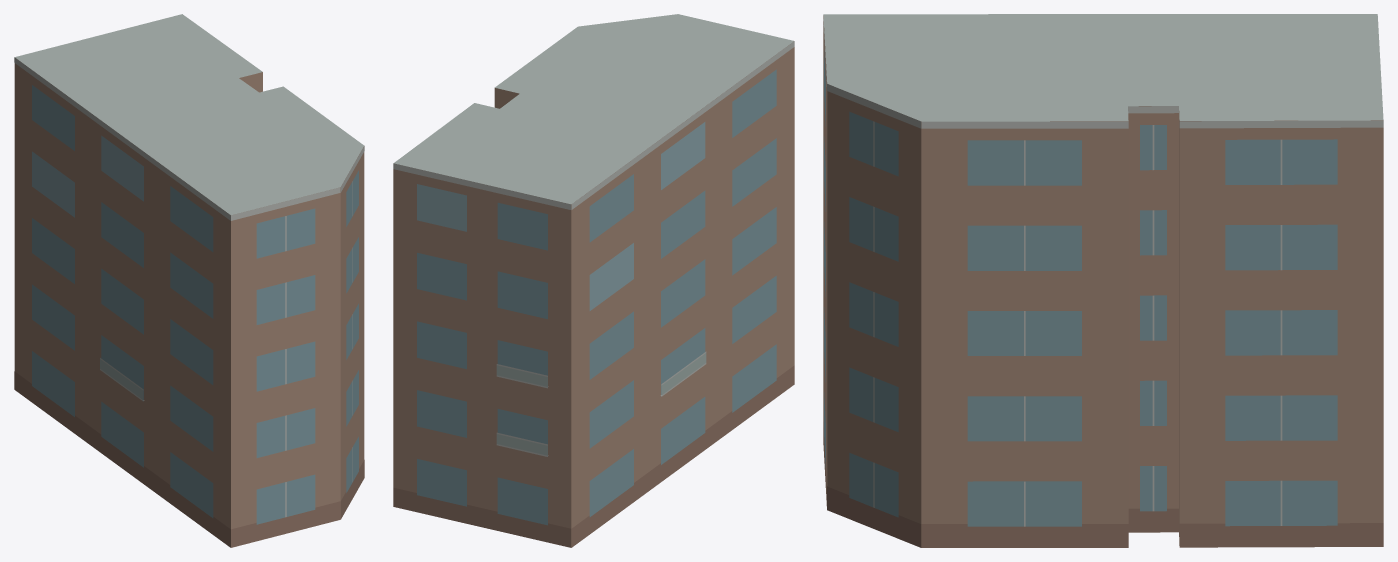
Rendered from survey-upis-32520131.glb.
3 views of the same model, side by side, from view 1: azimuth 30°, elevation 25°; view 2: azimuth 150°, elevation 25°; view 3: azimuth 270°, elevation 25° (orthographic). The views are drawn at different scales.
Visible parts, largest first — view 1: survey-upis-32520131.tmp; view 2: survey-upis-32520131.tmp; view 3: survey-upis-32520131.tmp.
Boxes of the visible parts, x1,y1,x2,y2 form: survey-upis-32520131.tmp: (14,14,364,547); survey-upis-32520131.tmp: (393,14,794,547); survey-upis-32520131.tmp: (823,14,1383,547).
Size of the model in its own units: 7.78 by 14.32 by 17.06.
